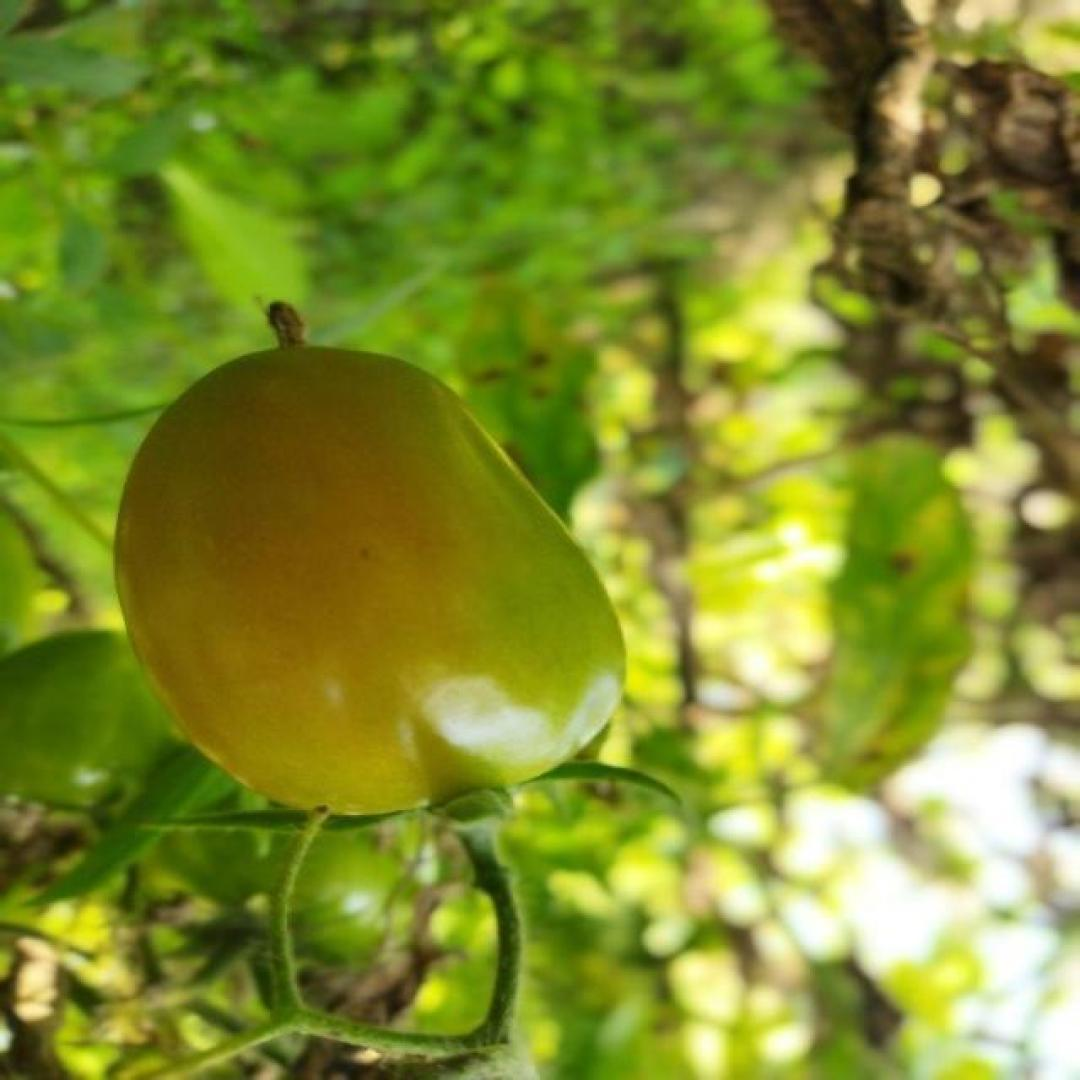setengah_matang: (109, 344, 632, 820)
